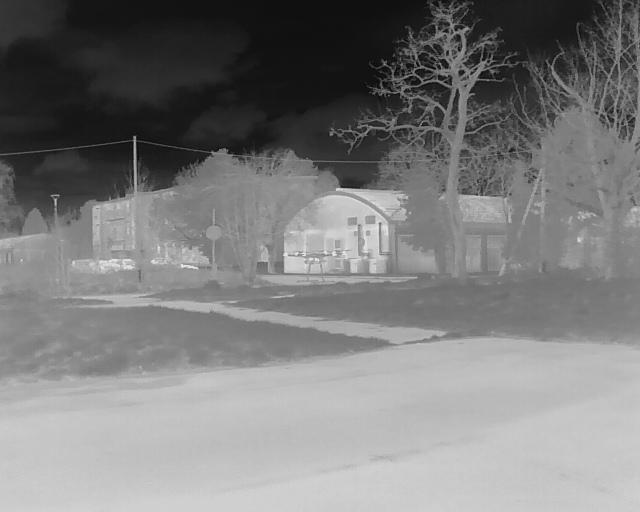drone: (273, 238, 360, 292)
